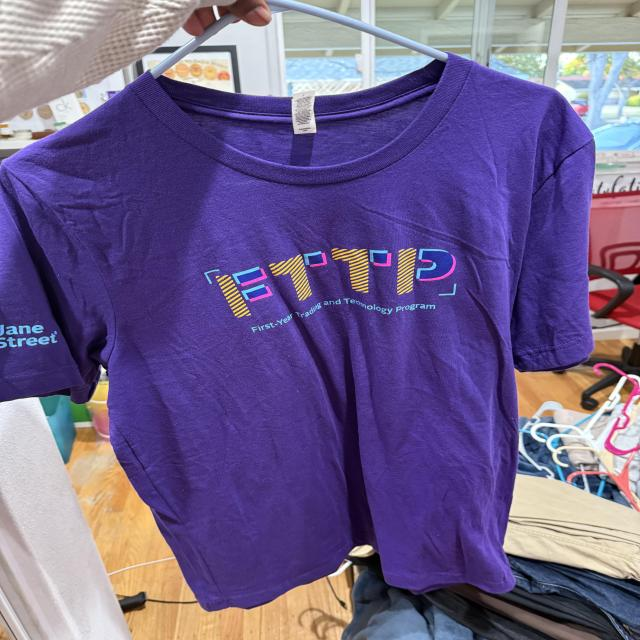back_tag: (284, 89, 325, 136)
